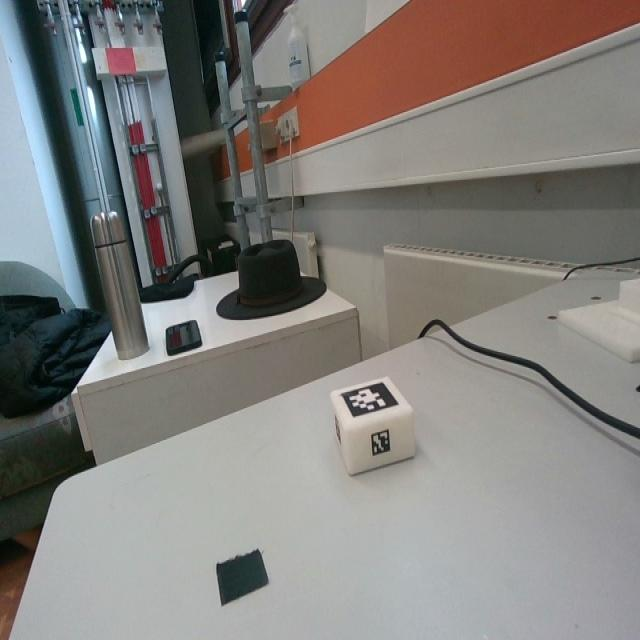Cube: (330, 373, 414, 475)
